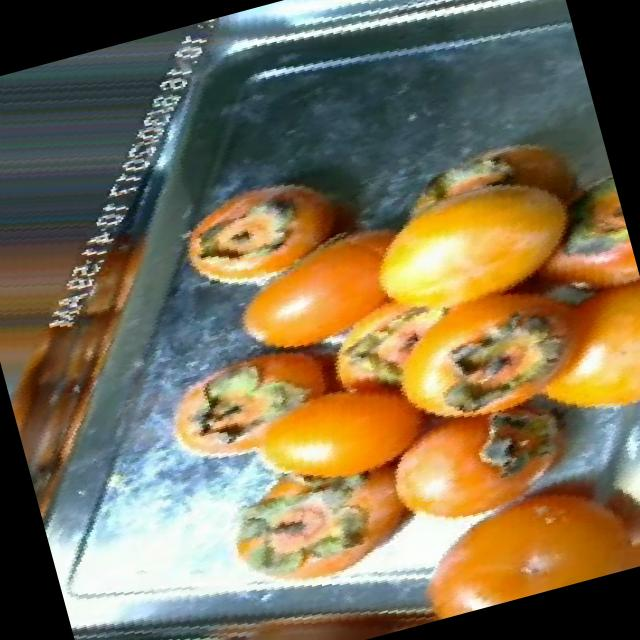Fruit: (154, 142, 373, 310)
